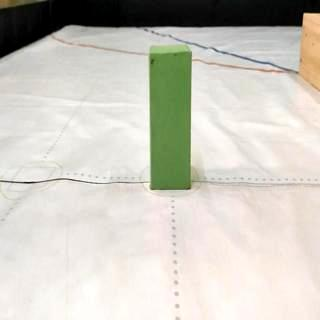greenbox: (148, 46, 192, 190)
